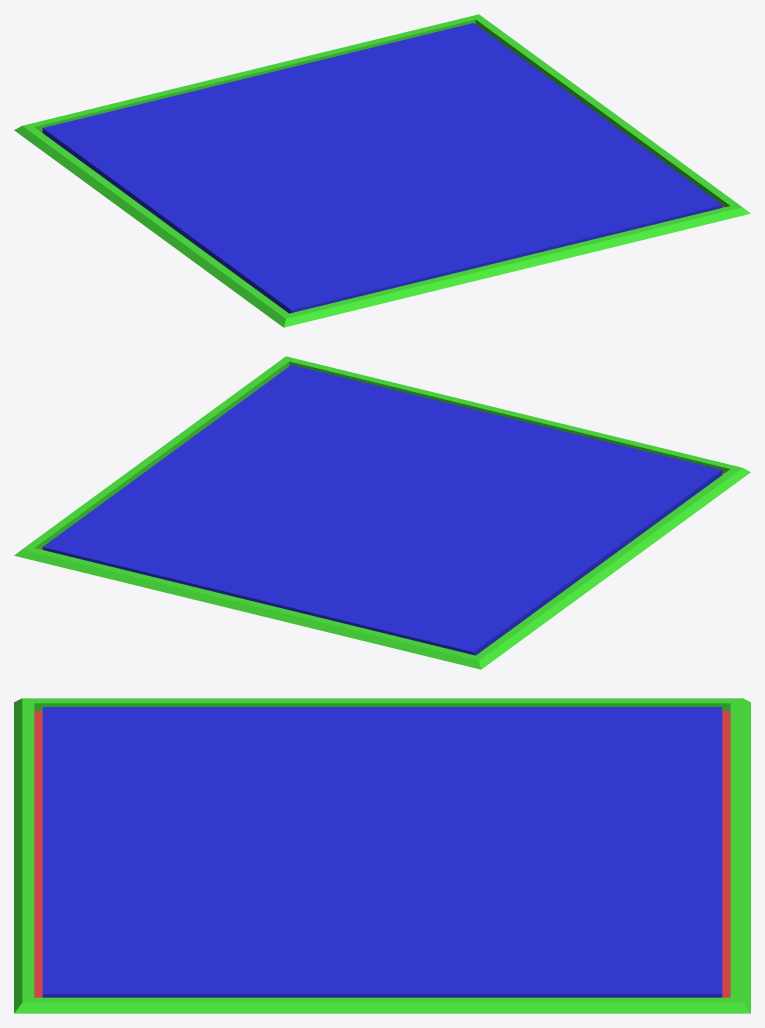
The model's file is Floor_11_C.fbx.
The picture shows the model from 3 angles, top to bottom: view 1: azimuth 30°, elevation 25°; view 2: azimuth 150°, elevation 25°; view 3: azimuth 270°, elevation 25°; orthographic projection. The views are drawn at different scales.
Visible parts, largest first — view 1: Floor_11_C; view 2: Floor_11_C; view 3: Floor_11_C.
Boxes of the visible parts, x1,y1,x2,y2 form: Floor_11_C: (14,14,750,327); Floor_11_C: (14,356,750,669); Floor_11_C: (14,698,750,1013).
Size of the model in its own units: 229 by 2.54 by 229.
